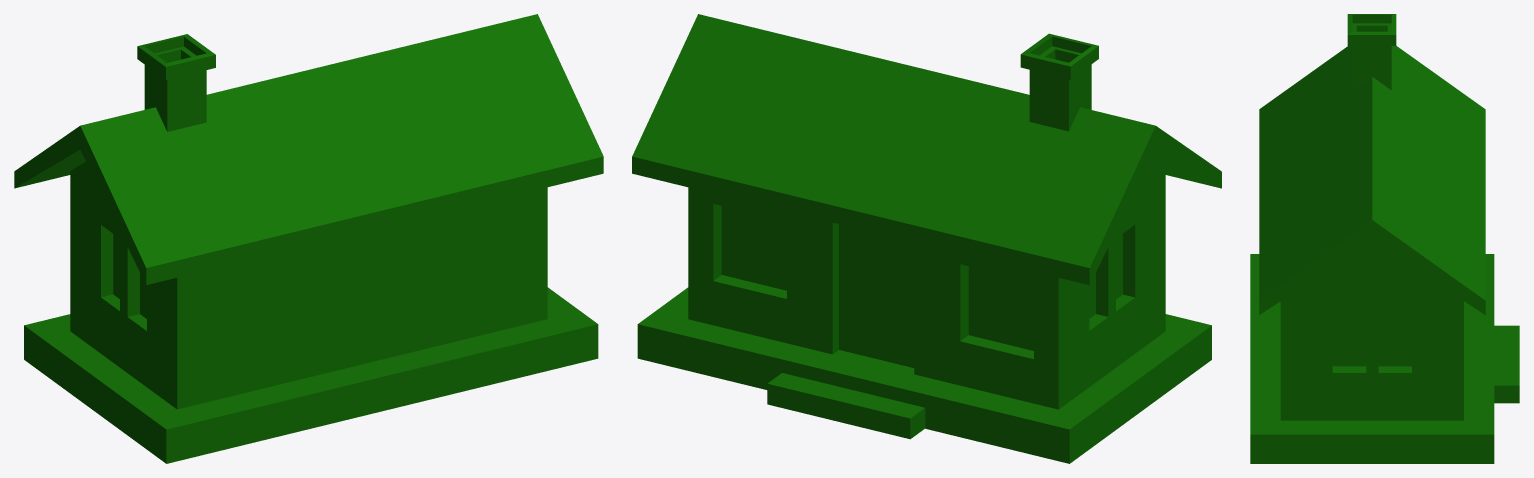
Rendered from house2.fbx.
The picture shows the model from 3 angles, left to right: view 1: azimuth 30°, elevation 25°; view 2: azimuth 150°, elevation 25°; view 3: azimuth 270°, elevation 25°; orthographic projection. The views are drawn at different scales.
Visible parts, largest first — view 1: Cube.007; view 2: Cube.007; view 3: Cube.007.
Part boxes in pixels (<box>): Cube.007: <box>14,14,603,463</box>; Cube.007: <box>632,14,1221,463</box>; Cube.007: <box>1250,14,1519,463</box>.
Size of the model in its own units: 379 by 271 by 226.
